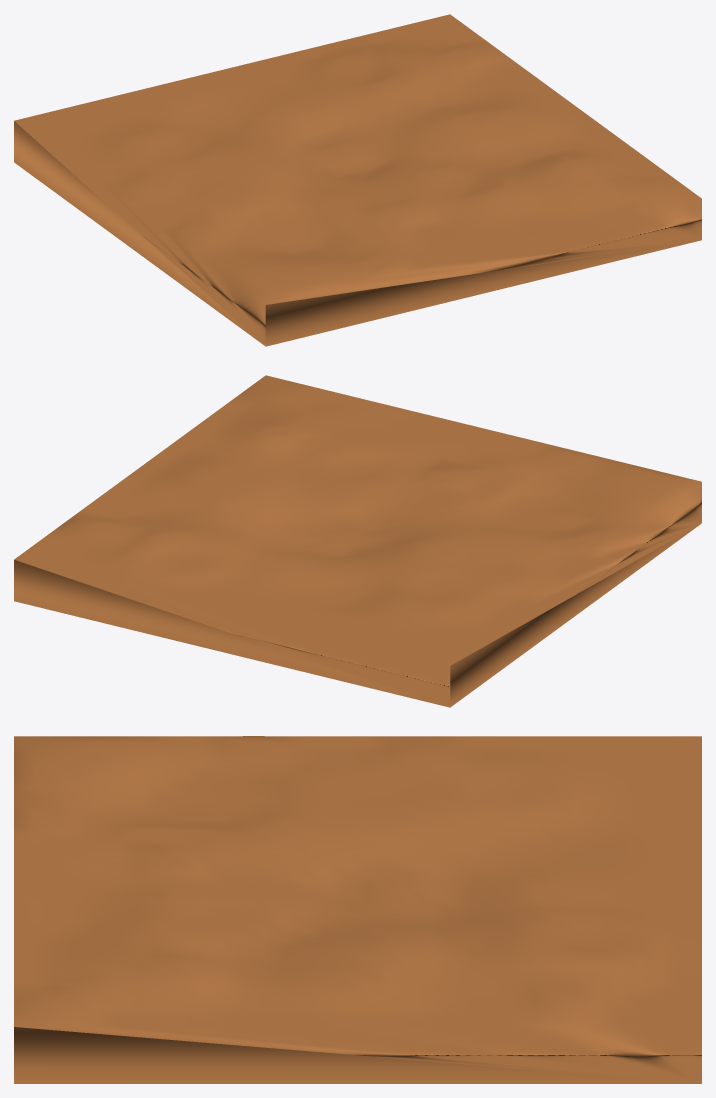
File: Ground_1.fbx
3 views of the same model, one above another, from view 1: azimuth 30°, elevation 25°; view 2: azimuth 150°, elevation 25°; view 3: azimuth 270°, elevation 25° (orthographic). The views are drawn at different scales.
Visible parts, largest first — view 1: ground_1; view 2: ground_1; view 3: ground_1.
Part boxes in pixels (box(x1,y1,x2,y2)): ground_1: box(14, 14, 701, 346); ground_1: box(14, 375, 701, 707); ground_1: box(14, 736, 701, 1083).
Size of the model in its own units: 17178 by 1834 by 17176.
